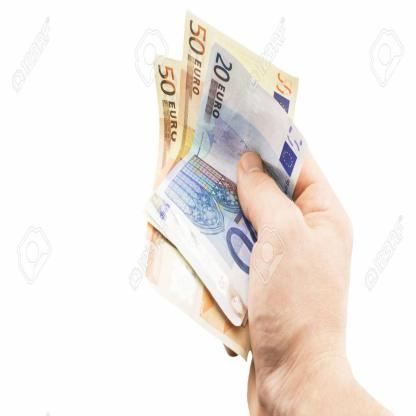billete: (142, 5, 310, 365)
